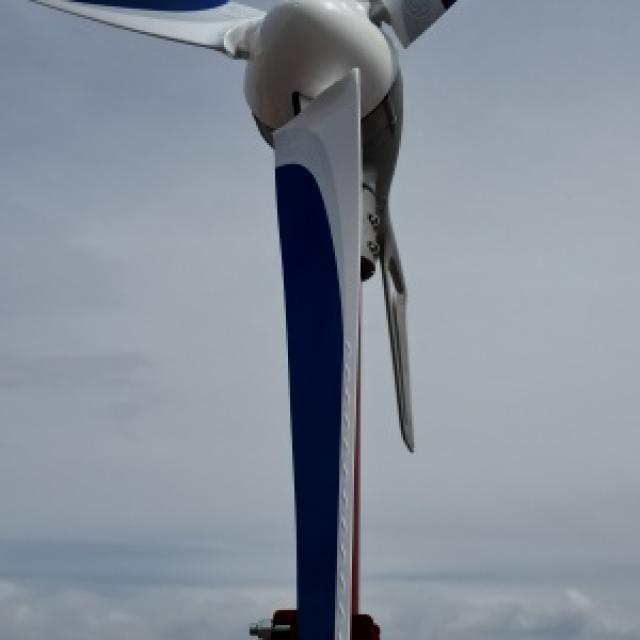healthy: (2, 0, 284, 439)
